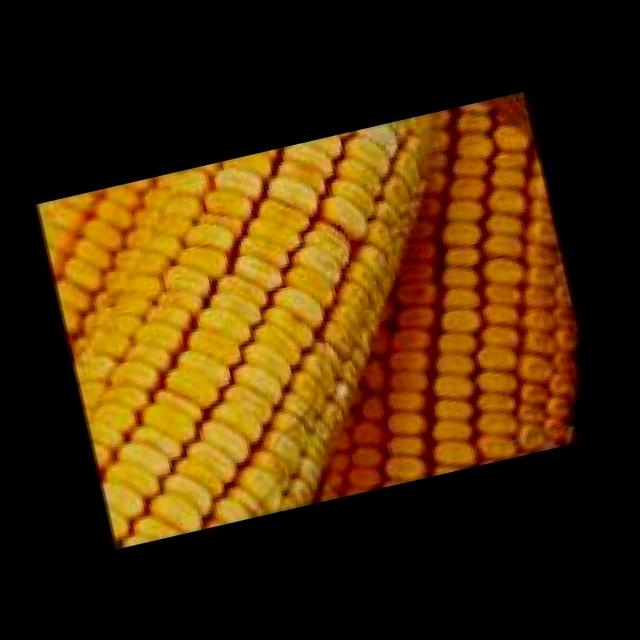corn: (35, 112, 524, 550)
